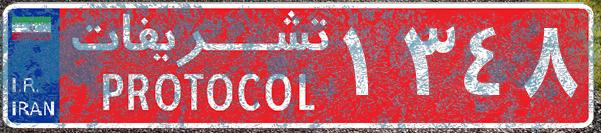1: (340, 20, 400, 115)
3: (400, 20, 460, 115)
4: (460, 20, 520, 115)
8: (520, 20, 580, 115)
تشریفات: (60, 8, 340, 125)
